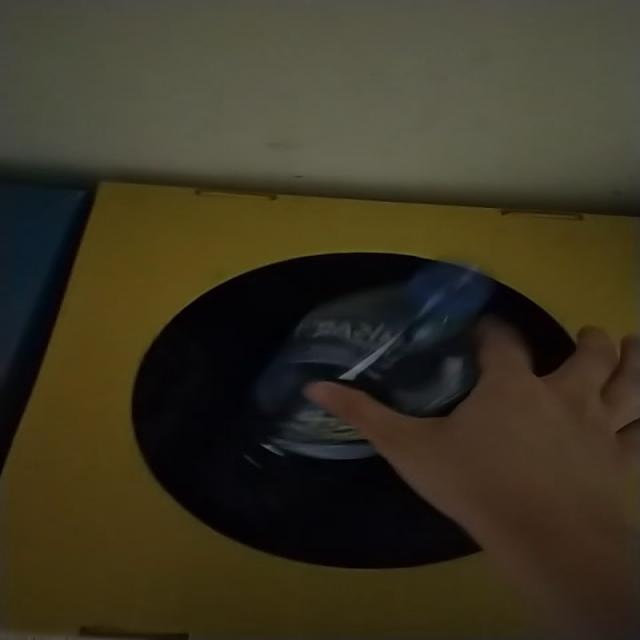plastic: (257, 263, 496, 460)
